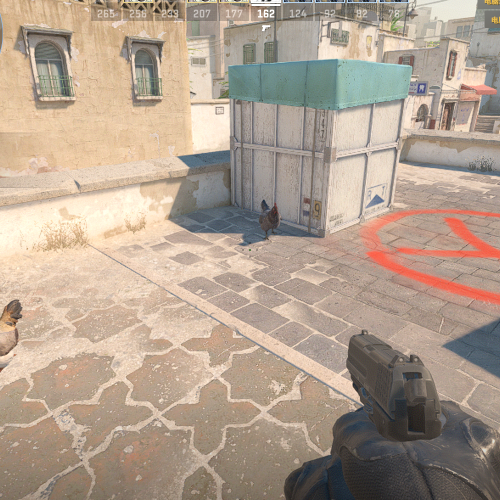chicken: (258, 200, 283, 241)
